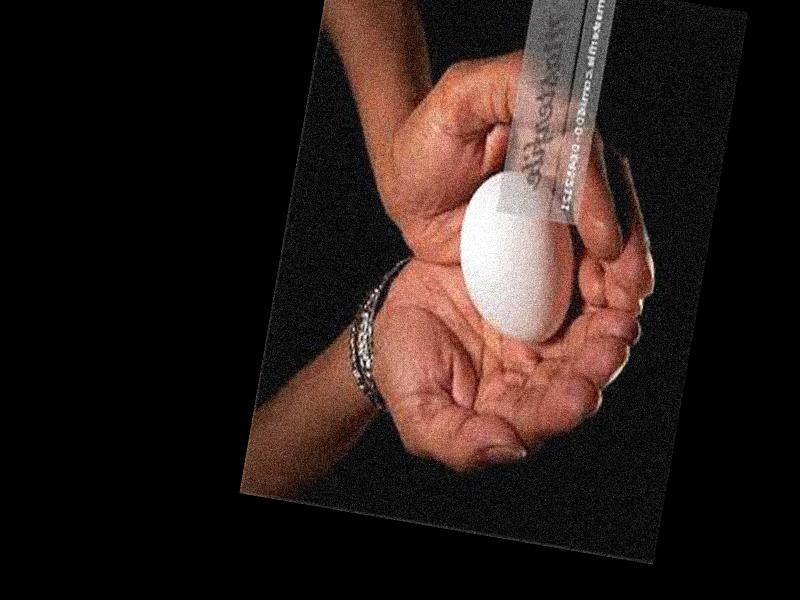Eggs: (446, 170, 591, 350)
